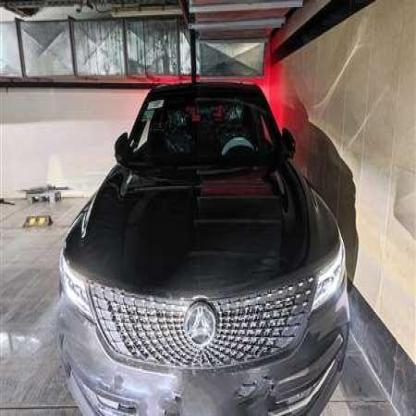Car: (57, 77, 341, 416)
